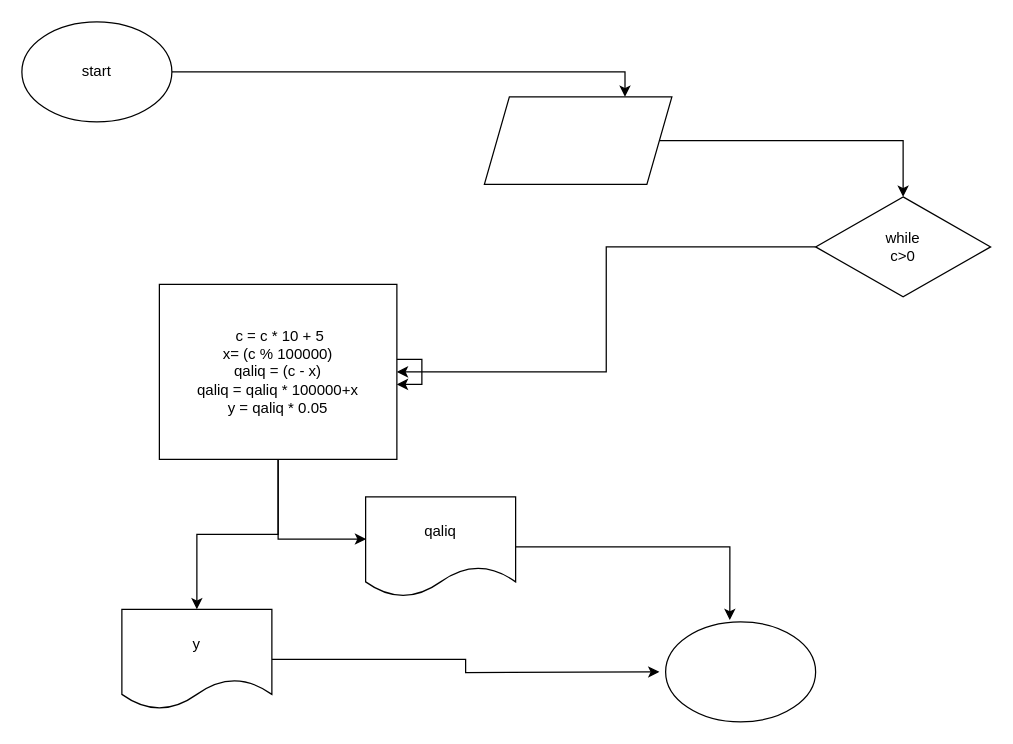
Image size: 1013x744. Some labels were removed from this diagram. The centre of each missing label's shape, as x and y in pixels:
"a,b,c,x,y,qaliq" belongs at (577,140).
"end" belongs at (740,671).
